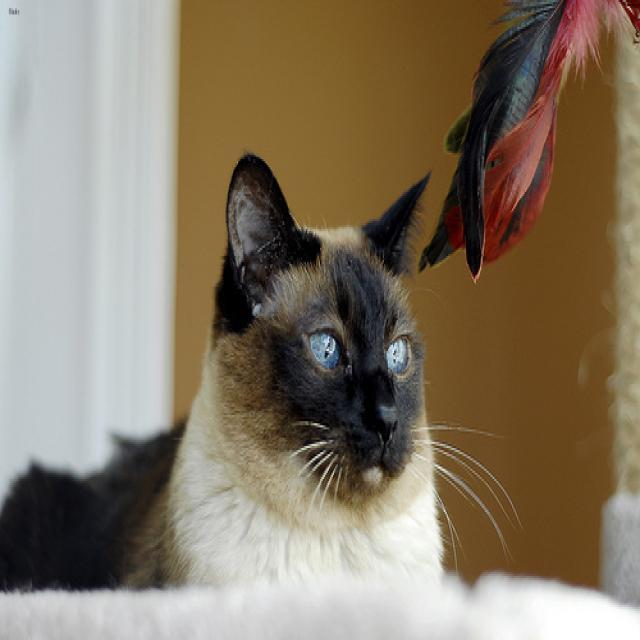Siamese: (223, 151, 430, 498)
